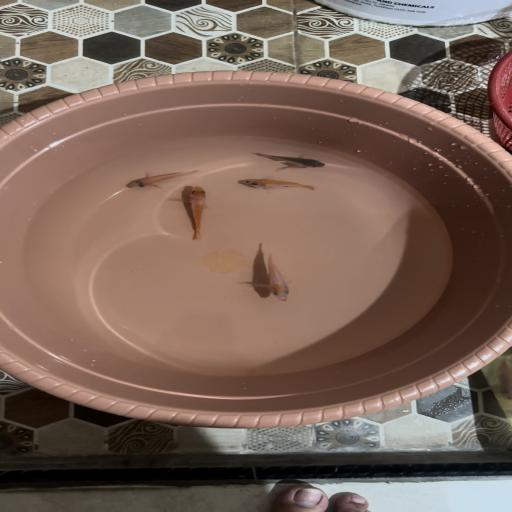nila: (251, 250, 302, 305), (177, 184, 216, 241), (121, 167, 209, 190), (249, 150, 332, 170), (238, 177, 318, 192)
